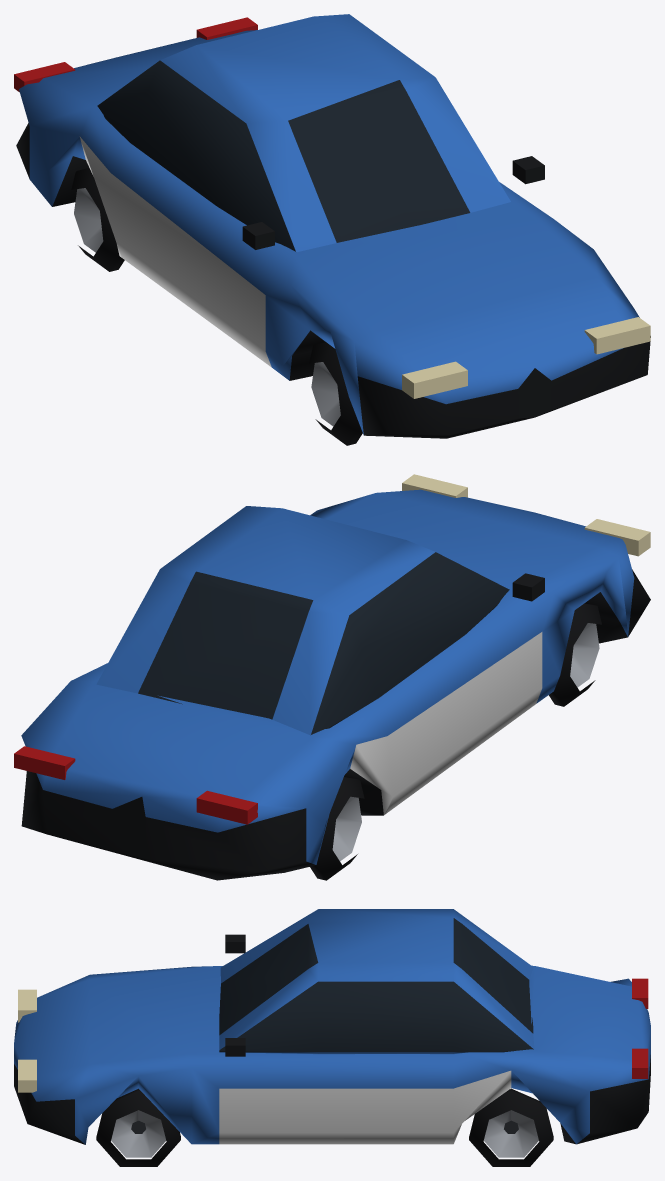
Rendered from mobile-low.glb.
3 views of the same model, one above another, from view 1: azimuth 30°, elevation 25°; view 2: azimuth 150°, elevation 25°; view 3: azimuth 270°, elevation 25° (orthographic). The views are drawn at different scales.
Parts seen in each view (by area): view 1: body, tyre_fr, light_head_r, tyre_rr, light_head_l, rim_rr, rim_fr, light_brake_l, light_brake_r; view 2: body, tyre_rr, tyre_fr, light_brake_r, light_brake_l, rim_fr, rim_rr, light_head_r, light_head_l; view 3: body, tyre_rl, tyre_fl, rim_rl, rim_fl, light_head_l, light_brake_l, light_head_r, light_brake_r.
Part boxes in pixels (x1,y1,x2,y2): body: (16, 14, 650, 438); tyre_fr: (309, 342, 362, 445); light_head_r: (402, 361, 467, 398); tyre_rr: (71, 168, 124, 271); light_head_l: (584, 317, 650, 354); rim_rr: (74, 188, 103, 252); rim_fr: (311, 362, 340, 426); light_brake_l: (196, 17, 257, 39); light_brake_r: (14, 62, 75, 91); body: (21, 489, 650, 880); tyre_rr: (310, 776, 364, 880); tyre_fr: (549, 603, 601, 706); light_brake_r: (196, 790, 257, 824); light_brake_l: (14, 746, 75, 779); rim_fr: (570, 623, 599, 687); rim_rr: (332, 796, 361, 861); light_head_r: (584, 519, 650, 556); light_head_l: (402, 474, 467, 497); body: (14, 909, 650, 1144); tyre_rl: (469, 1088, 553, 1166); tyre_fl: (96, 1088, 180, 1166); rim_rl: (484, 1110, 538, 1157); rim_fl: (111, 1110, 166, 1157); light_head_l: (18, 1059, 36, 1092); light_brake_l: (632, 1048, 648, 1078); light_head_r: (18, 989, 36, 1022); light_brake_r: (632, 978, 648, 1008).
Size of what is drawn, in the model's own units: 1.93 by 1.47 by 4.7.
